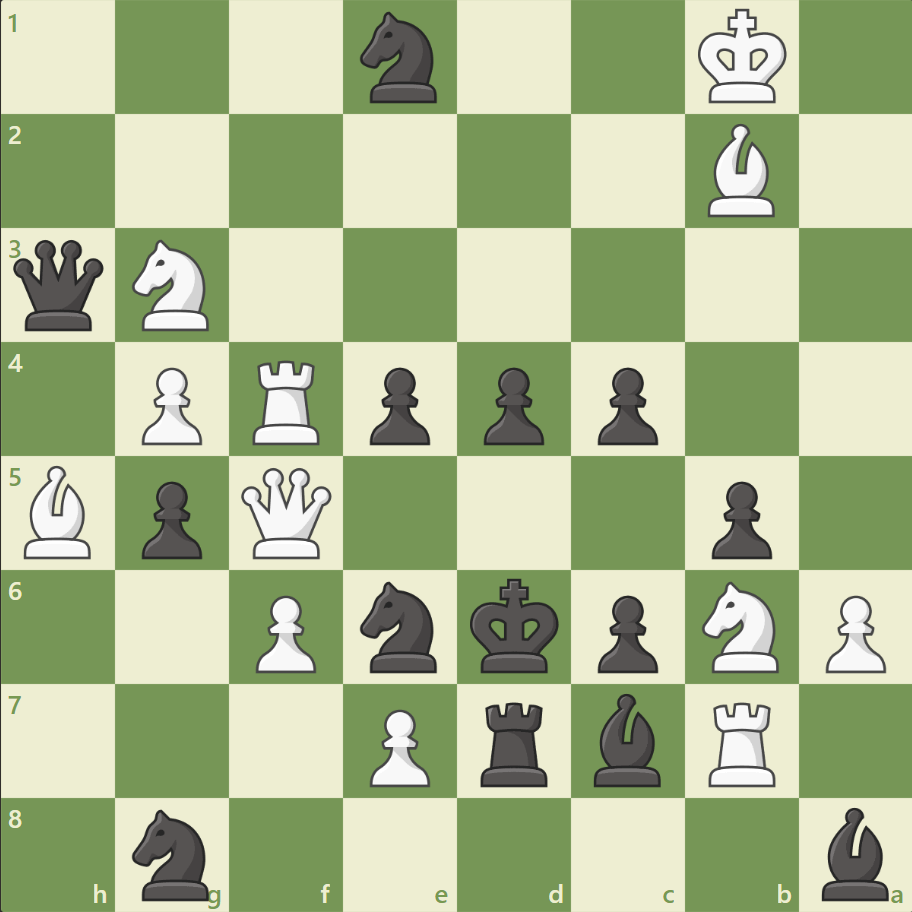B: (17, 460, 101, 563), (698, 120, 782, 222)
K: (692, 4, 792, 112)
N: (124, 234, 222, 337), (692, 575, 789, 677)
P: (247, 586, 322, 677), (133, 359, 208, 450), (361, 700, 435, 791), (815, 586, 889, 677)
Q: (237, 463, 336, 562)
R: (700, 693, 783, 790), (246, 352, 329, 449)
b: (812, 801, 896, 904), (585, 687, 669, 790)
k: (465, 571, 565, 679)
n: (351, 7, 449, 110), (124, 802, 222, 904), (351, 575, 449, 677)
p: (701, 473, 776, 564), (133, 473, 208, 564), (474, 359, 549, 450), (588, 586, 662, 677), (588, 359, 662, 450), (361, 359, 435, 450)
q: (10, 236, 109, 335)
r: (473, 693, 556, 790)
